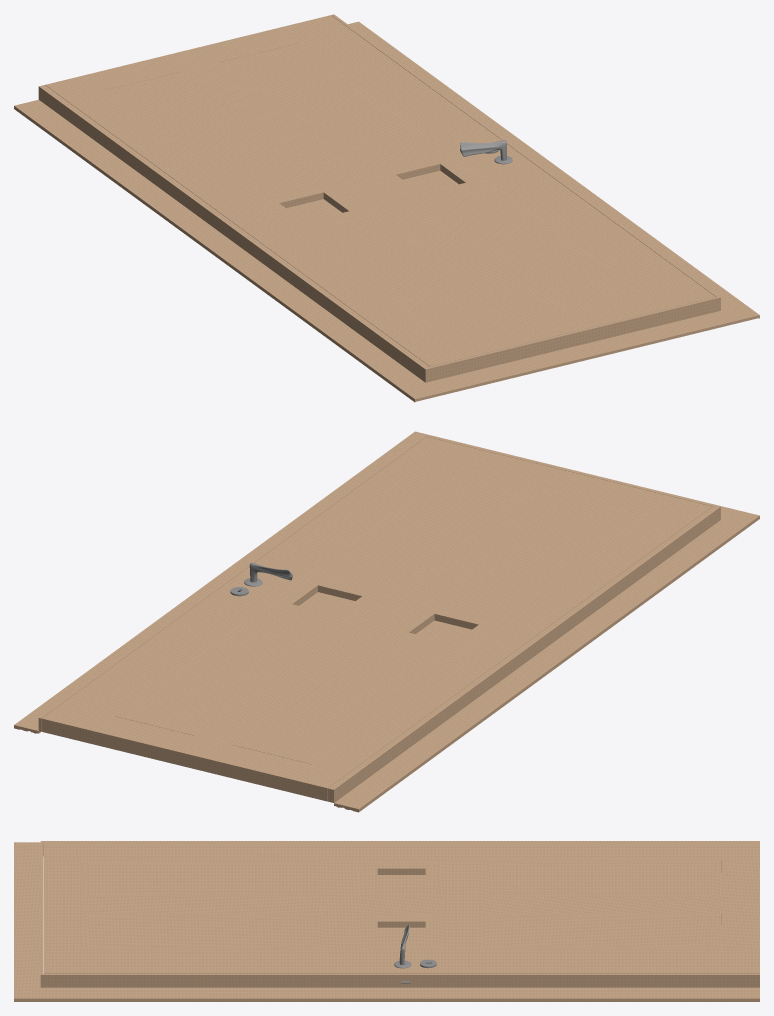
File: door01.obj
The picture shows the model from 3 angles, top to bottom: view 1: azimuth 30°, elevation 25°; view 2: azimuth 150°, elevation 25°; view 3: azimuth 270°, elevation 25°; orthographic projection. The views are drawn at different scales.
Visible parts, largest first — view 1: Doors, Frame; view 2: Doors, Frame; view 3: Doors, Frame.
Boxes of the visible parts, <box> form: Doors: <box>45,15,715,366</box>; Frame: <box>14,14,759,402</box>; Doors: <box>42,437,712,801</box>; Frame: <box>14,431,759,812</box>; Doors: <box>44,844,759,983</box>; Frame: <box>14,841,759,1001</box>.
Size of the model in its own units: 109 by 19.08 by 219.
Materials: 3 (1 with a texture image).
